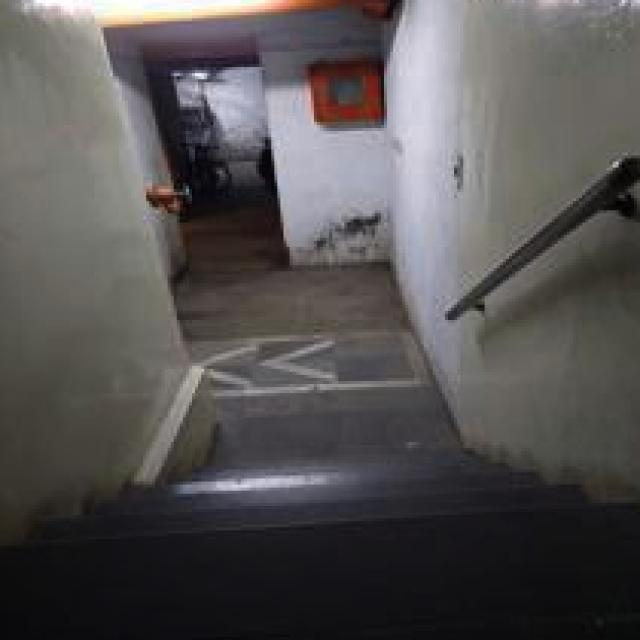downstair: (120, 437, 556, 586)
